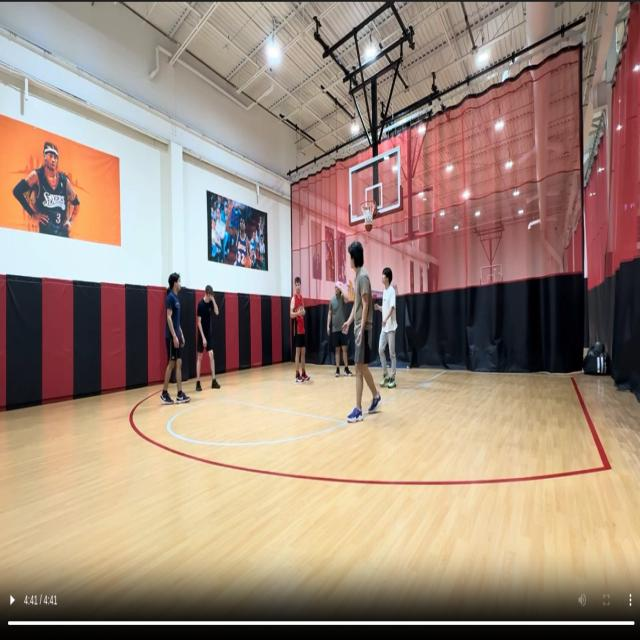Basketball: (365, 224, 373, 232)
Basketball Rim: (360, 202, 376, 222)
